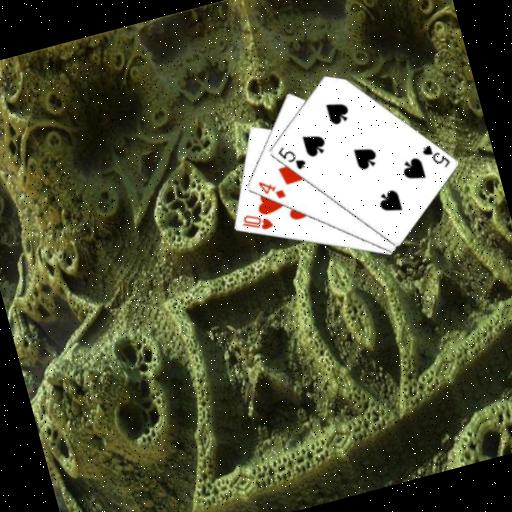10H: (236, 206, 275, 237)
4D: (254, 172, 288, 205)
5S: (272, 138, 308, 176), (417, 137, 452, 174)
